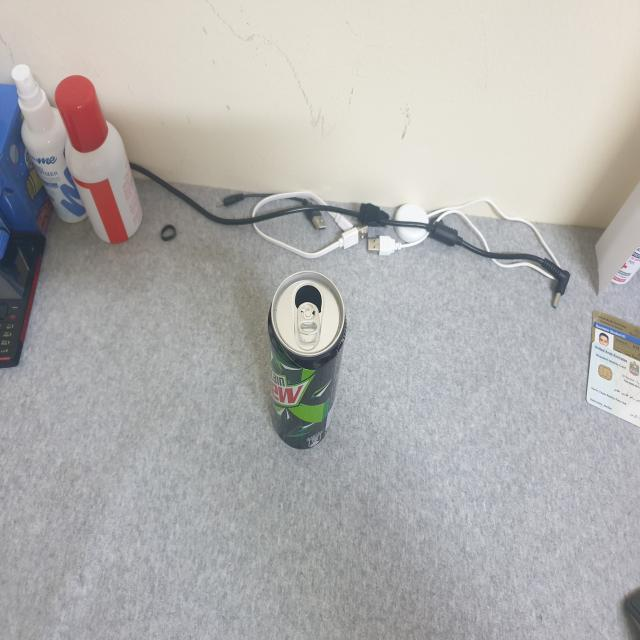can: (264, 266, 350, 458)
